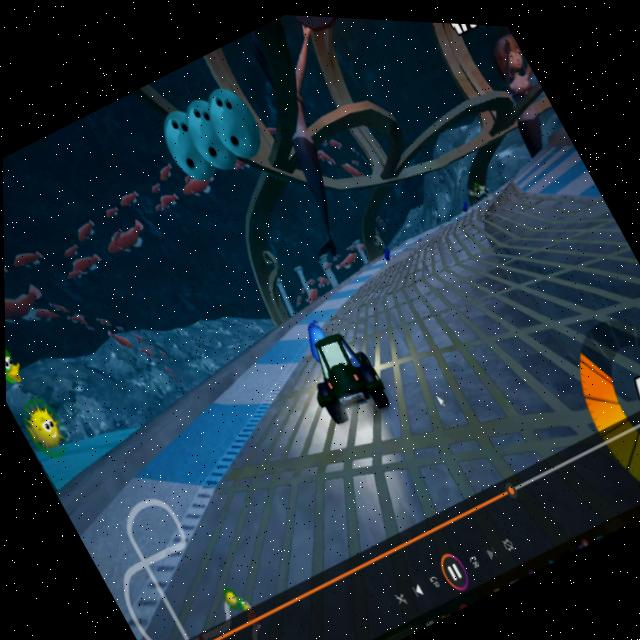nitro: (380, 241, 396, 260)
player_kart: (282, 304, 398, 427)
track: (356, 166, 595, 358)
